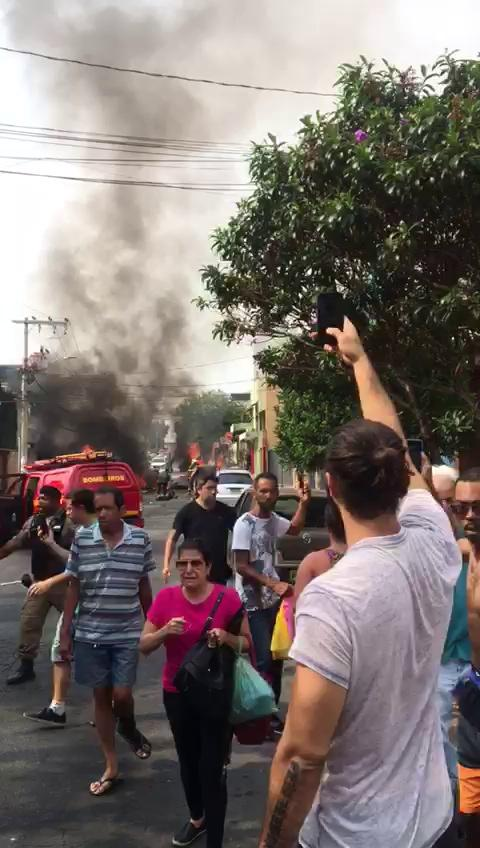smoke: (74, 16, 230, 136)
